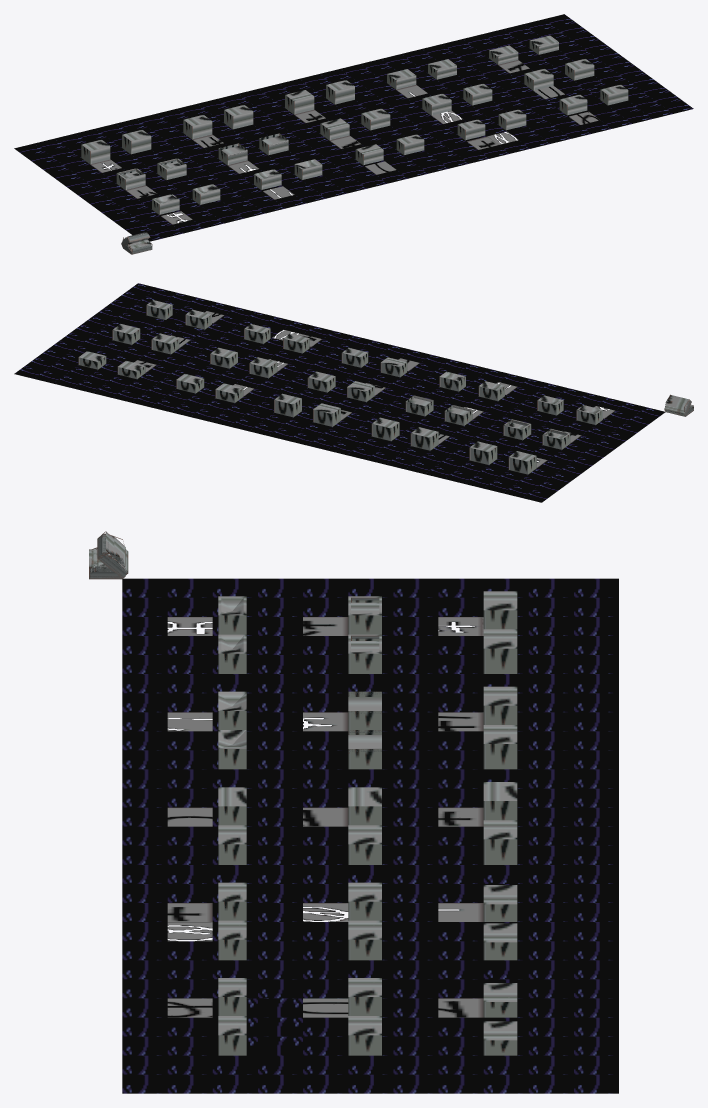
Rendered from MAP506.obj.
3 renders of one model, top to bottom at view 1: azimuth 30°, elevation 25°; view 2: azimuth 150°, elevation 25°; view 3: azimuth 270°, elevation 25°, orthographic. The views are drawn at different scales.
Visible parts, largest first — view 1: mesh_4, mesh_2, mesh_0, mesh_1, mesh_8; view 2: mesh_4, mesh_3, mesh_0, mesh_1; view 3: mesh_4, mesh_1, mesh_0, mesh_8, mesh_6, mesh_10, mesh_15, mesh_20, mesh_13, mesh_18, mesh_16, mesh_9 (+2 smaller).
Part boxes in pixels (x1,y1,x2,y2): mesh_4: (14, 14, 693, 241); mesh_2: (90, 42, 628, 214); mesh_0: (81, 35, 627, 204); mesh_1: (81, 40, 607, 214); mesh_8: (294, 109, 497, 149); mesh_4: (14, 283, 665, 502); mesh_3: (78, 305, 595, 474); mesh_0: (79, 300, 602, 461); mesh_1: (98, 305, 602, 474); mesh_4: (122, 578, 618, 1093); mesh_1: (218, 600, 517, 1055); mesh_0: (218, 591, 517, 1040); mesh_8: (167, 807, 483, 921); mesh_6: (438, 712, 483, 731); mesh_10: (438, 998, 483, 1017); mesh_15: (303, 998, 348, 1017); mesh_20: (167, 998, 212, 1017); mesh_13: (303, 807, 348, 826); mesh_18: (167, 807, 212, 826); mesh_16: (167, 712, 212, 731); mesh_9: (438, 903, 483, 921).
Size of the model in its own units: 359 by 9 by 150.
22 materials, 22 textured.
